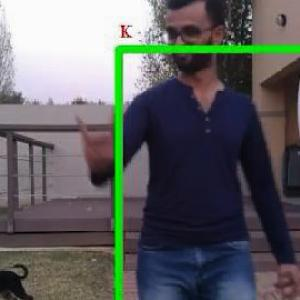takeoff-hand: (70, 104, 124, 178)
